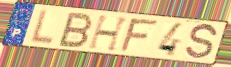4: (154, 21, 185, 58)
B: (56, 11, 95, 49)
F: (117, 18, 161, 54)
H: (86, 15, 131, 53)
L: (28, 8, 56, 47)
S: (183, 23, 219, 61)
